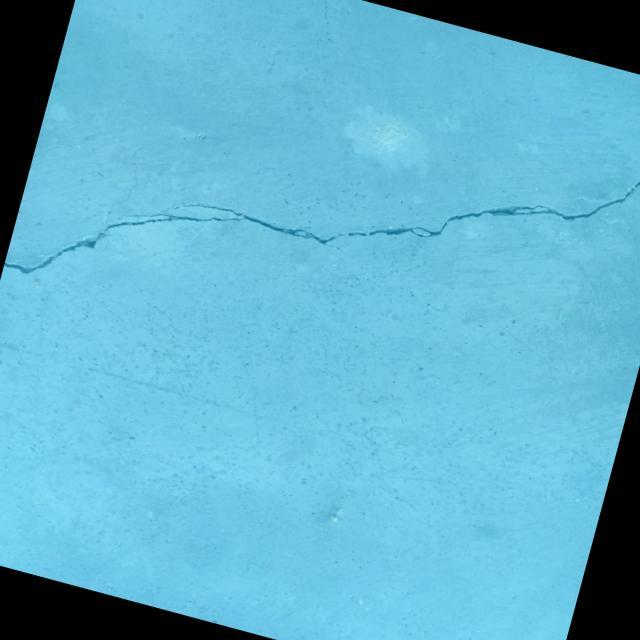crack: (2, 9, 640, 434), (607, 212, 640, 285), (266, 38, 296, 78), (316, 6, 334, 36), (226, 107, 248, 131), (315, 0, 331, 4)
